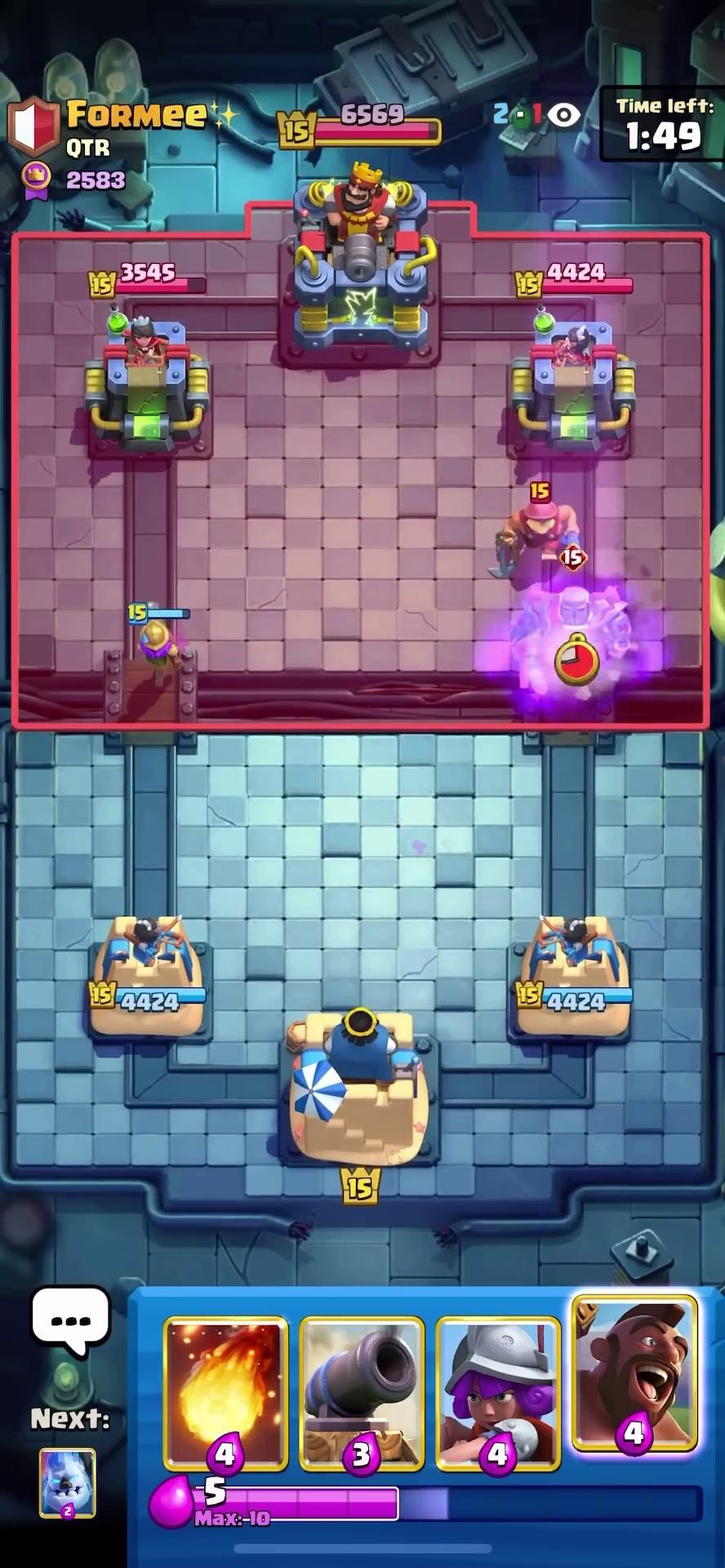musketeer: (118, 592, 196, 684)
